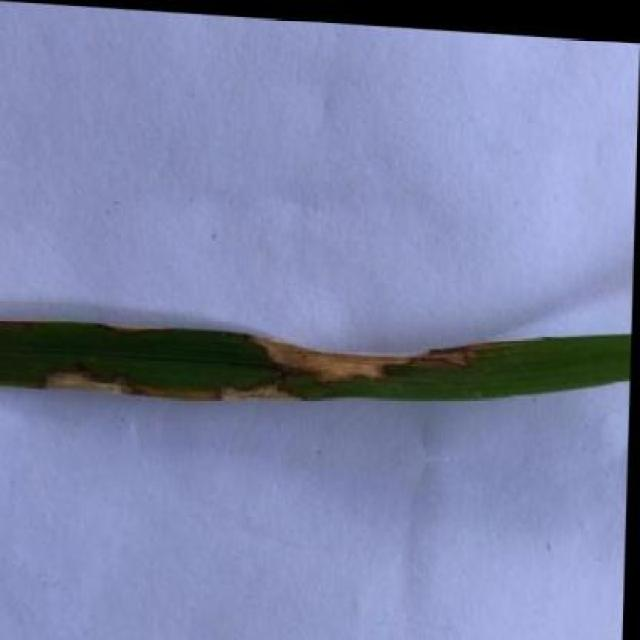Brown_Spot: (0, 280, 632, 424)
